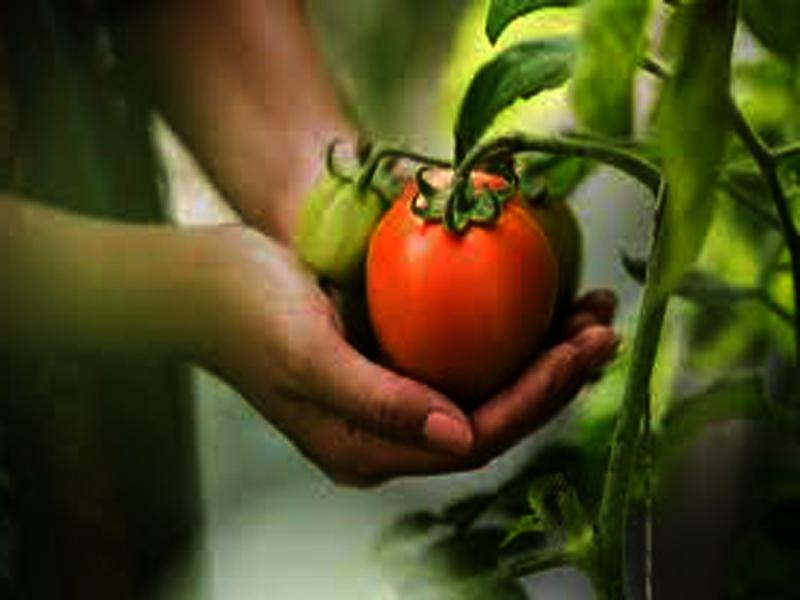Tomato: (366, 170, 555, 390)
